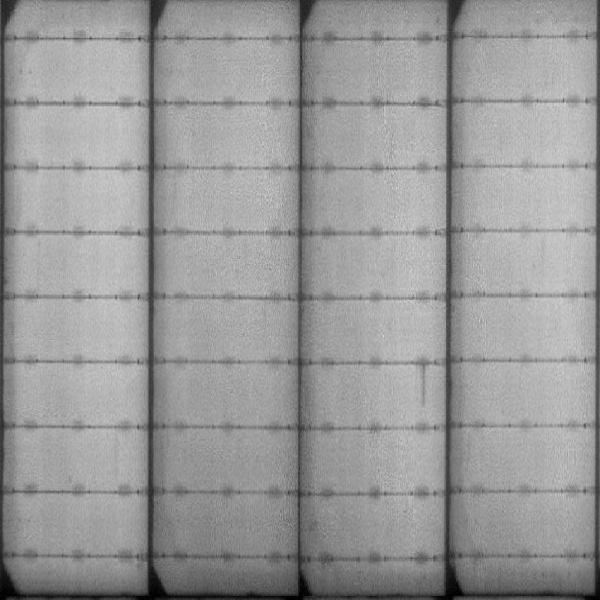scratch: (417, 361, 430, 408)
